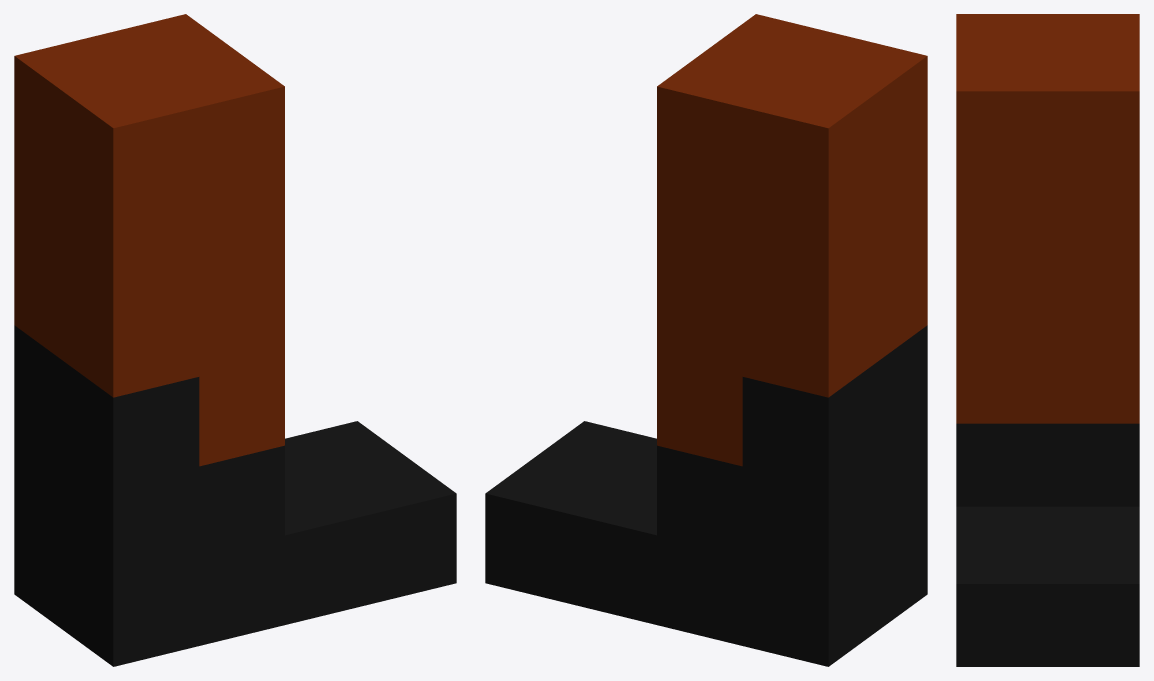
Rendered from leg_lower.obj.
3 renders of one model, left to right at view 1: azimuth 30°, elevation 25°; view 2: azimuth 150°, elevation 25°; view 3: azimuth 270°, elevation 25°, orthographic. The views are drawn at different scales.
Size of the model in its own units: 4 by 6 by 2.
1 material, 1 textured.
